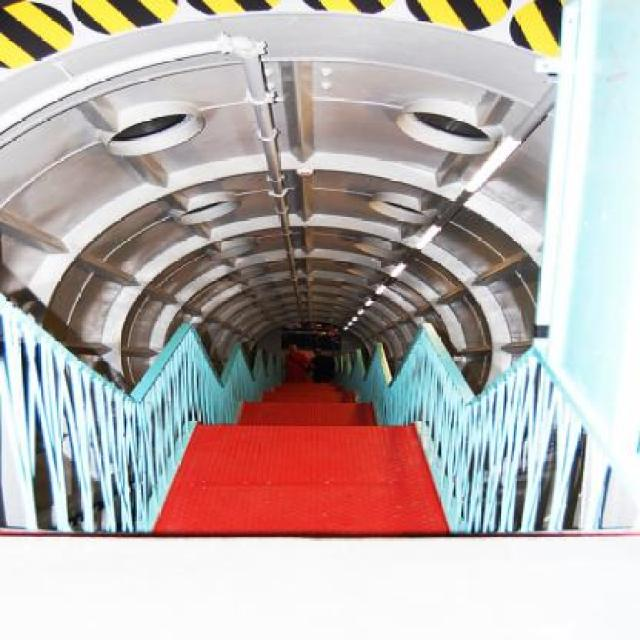stair: (175, 363, 463, 532)
